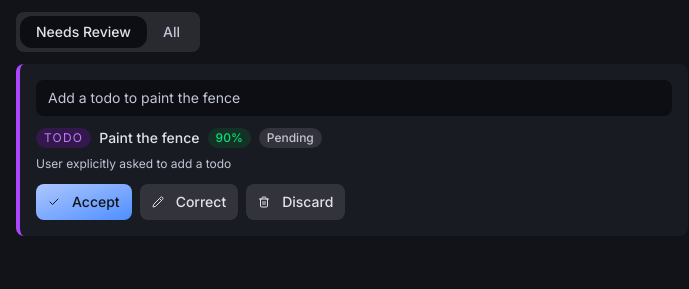
Test: DecisionReviewView › todo decisions › exposes description field in correction form via extractFormFields
This screenshot has width=689, height=289.
Click the button with test id "correct-button" at [189, 202], box left=140, top=184, right=238, bottom=220
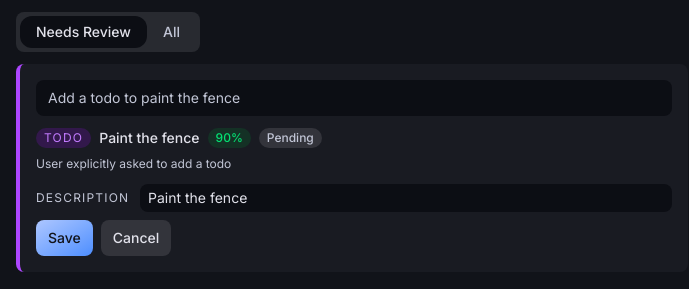
expect the element with test id "correction-form" is shown: met, box left=36, top=184, right=672, bottom=256
expect the field with test id "correction-input-description" holds "Paint the fence": met, box left=140, top=184, right=672, bottom=212
